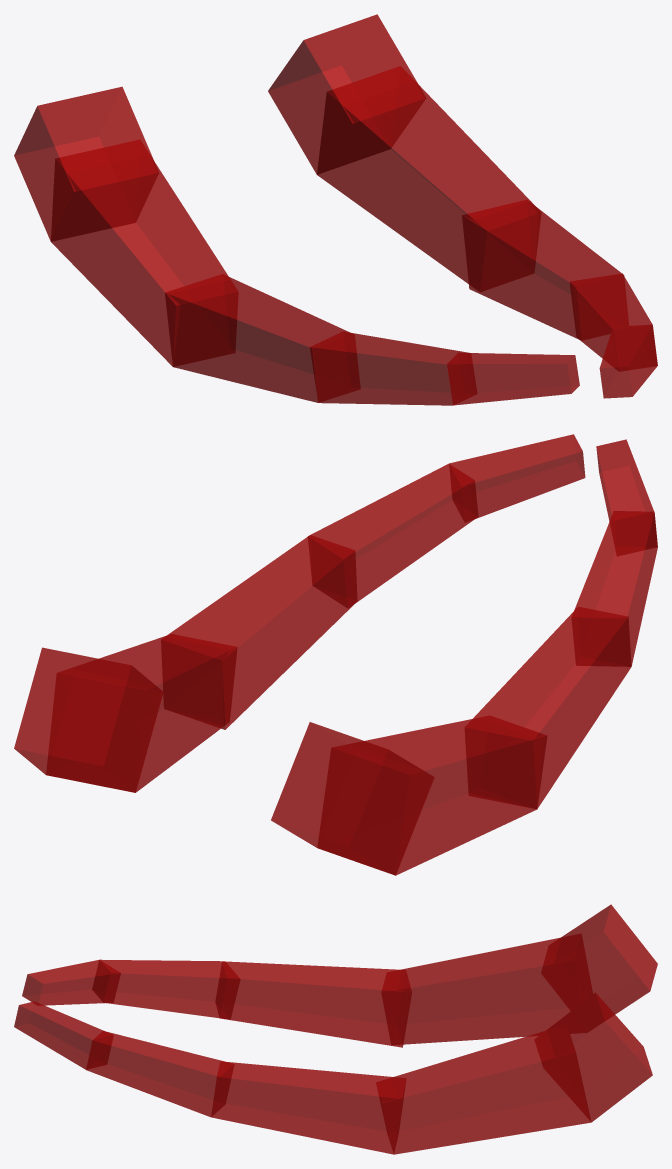
File: SM_Prop_Whale_Skeleton_Skull_01_Jaw_01_Collision.fbx
3 renders of one model, top to bottom at view 1: azimuth 30°, elevation 25°; view 2: azimuth 150°, elevation 25°; view 3: azimuth 270°, elevation 25°, orthographic. The views are drawn at different scales.
Visible parts, largest first — view 1: SM_Prop_Whale_Skeleton_Skull_01_Jaw_01_Collision; view 2: SM_Prop_Whale_Skeleton_Skull_01_Jaw_01_Collision; view 3: SM_Prop_Whale_Skeleton_Skull_01_Jaw_01_Collision.
Part boxes in pixels (x1,y1,x2,y2): SM_Prop_Whale_Skeleton_Skull_01_Jaw_01_Collision: (14,14,657,405); SM_Prop_Whale_Skeleton_Skull_01_Jaw_01_Collision: (14,434,657,875); SM_Prop_Whale_Skeleton_Skull_01_Jaw_01_Collision: (14,904,657,1154).
Bounding box in the file's own units: 367 × 165 × 732.
